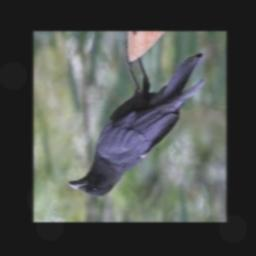Crow: (69, 39, 206, 197)
